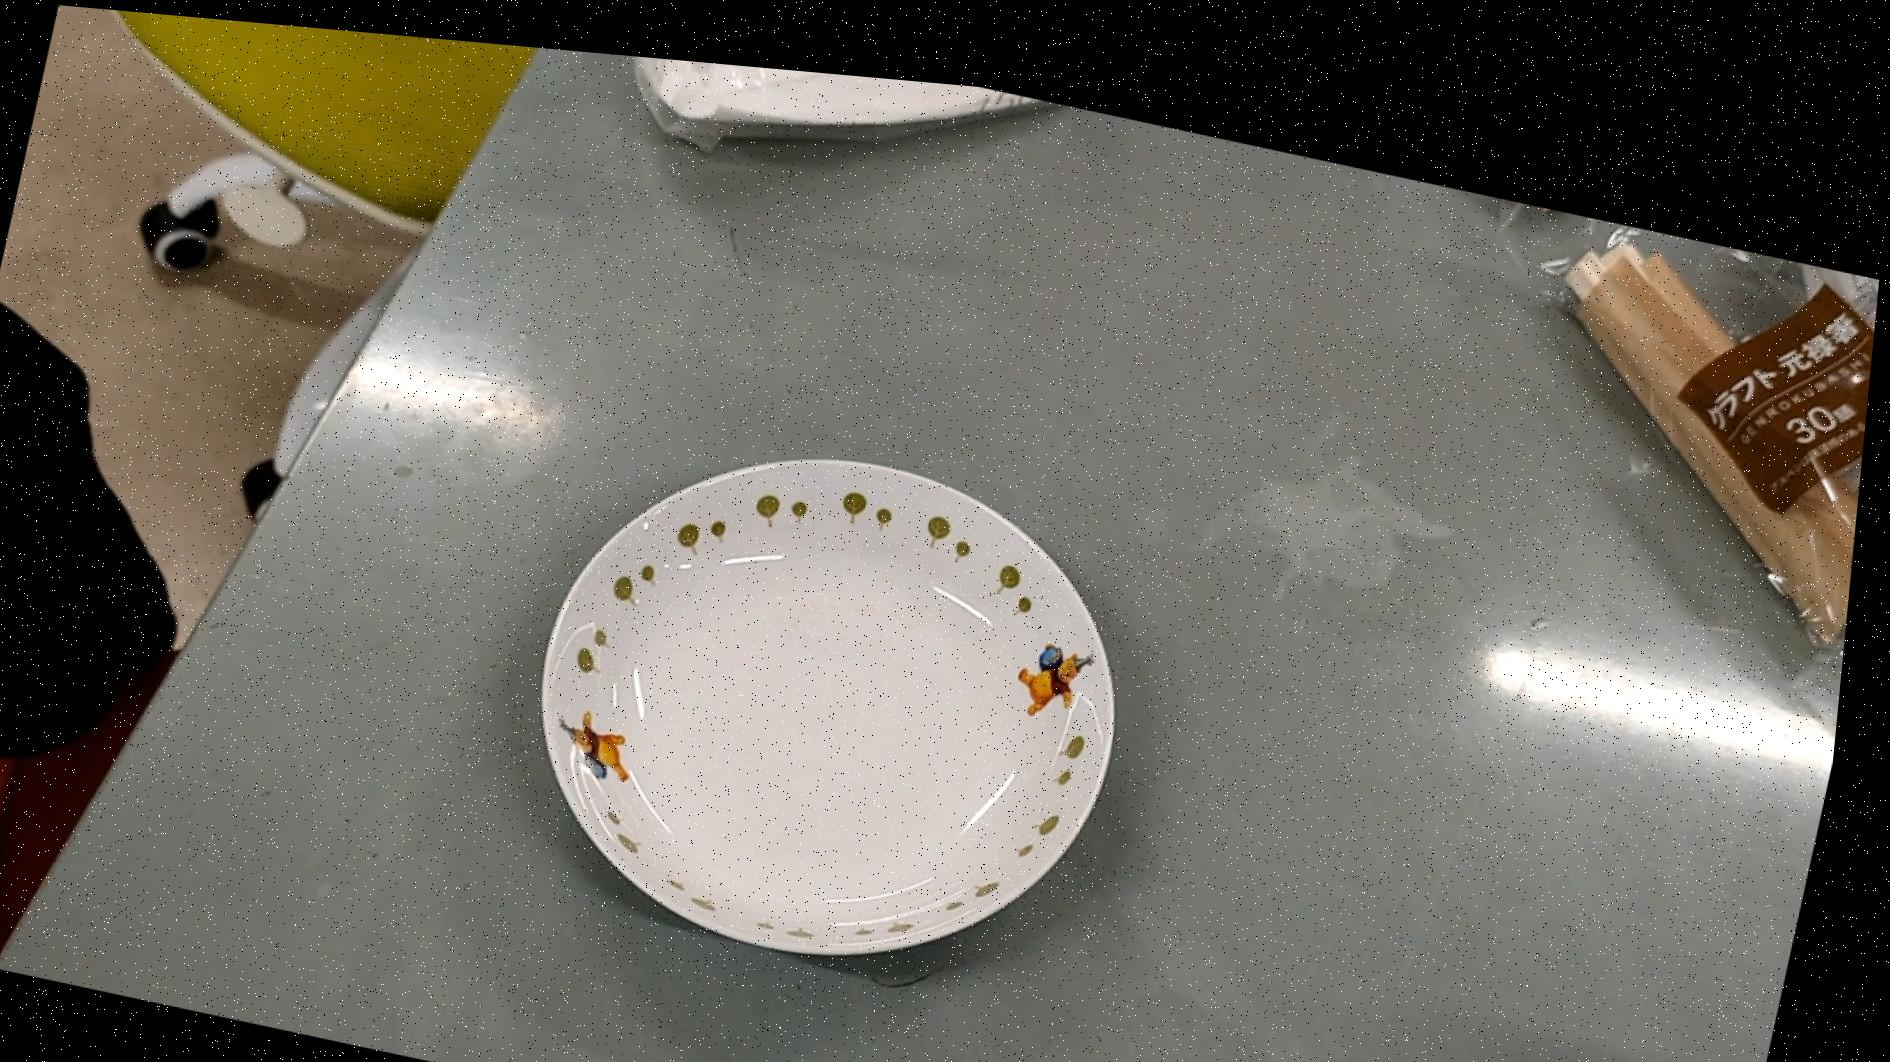plate: (505, 384, 1180, 996)
